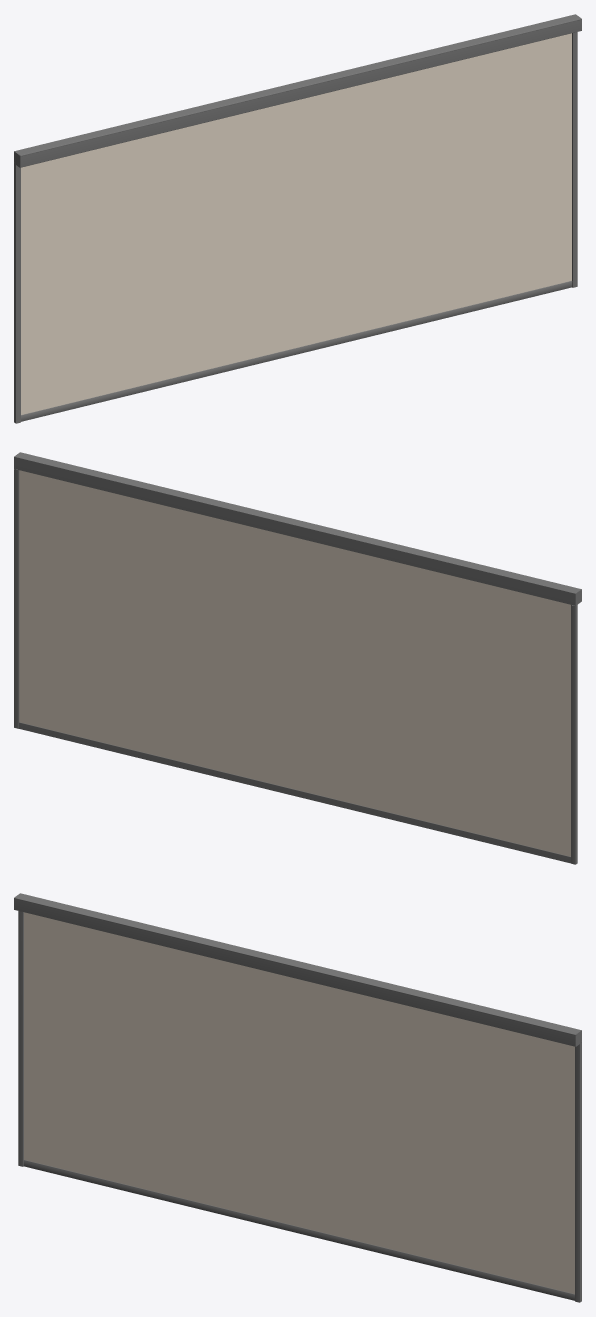
Rendered from Zip 6.glb.
The picture shows the model from 3 angles, top to bottom: view 1: azimuth 30°, elevation 25°; view 2: azimuth 150°, elevation 25°; view 3: azimuth 330°, elevation 25°; orthographic projection.
Visible parts, largest first — view 1: 3DGeom-1 (×14), 3DGeom-18, 3DGeom-4, 3DGeom-2; view 2: 3DGeom-1 (×14), 3DGeom-18, 3DGeom-4, 3DGeom-2; view 3: 3DGeom-1 (×14), 3DGeom-18, 3DGeom-4, 3DGeom-2.
Boxes of the visible parts, bbox=[...] form: 3DGeom-1 (×14): bbox=[21, 33, 571, 403]; 3DGeom-18: bbox=[14, 14, 581, 423]; 3DGeom-4: bbox=[21, 269, 571, 414]; 3DGeom-2: bbox=[21, 281, 572, 421]; 3DGeom-1 (×14): bbox=[19, 470, 570, 845]; 3DGeom-18: bbox=[14, 452, 581, 864]; 3DGeom-4: bbox=[19, 711, 570, 856]; 3DGeom-2: bbox=[19, 722, 570, 863]; 3DGeom-1 (×14): bbox=[24, 912, 574, 1282]; 3DGeom-18: bbox=[14, 893, 581, 1302]; 3DGeom-4: bbox=[24, 1148, 574, 1293]; 3DGeom-2: bbox=[23, 1160, 574, 1300].
Size of the model in its own units: 5.76 by 2.65 by 0.1113.
